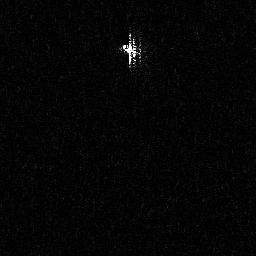ship: (117, 32, 148, 70)
